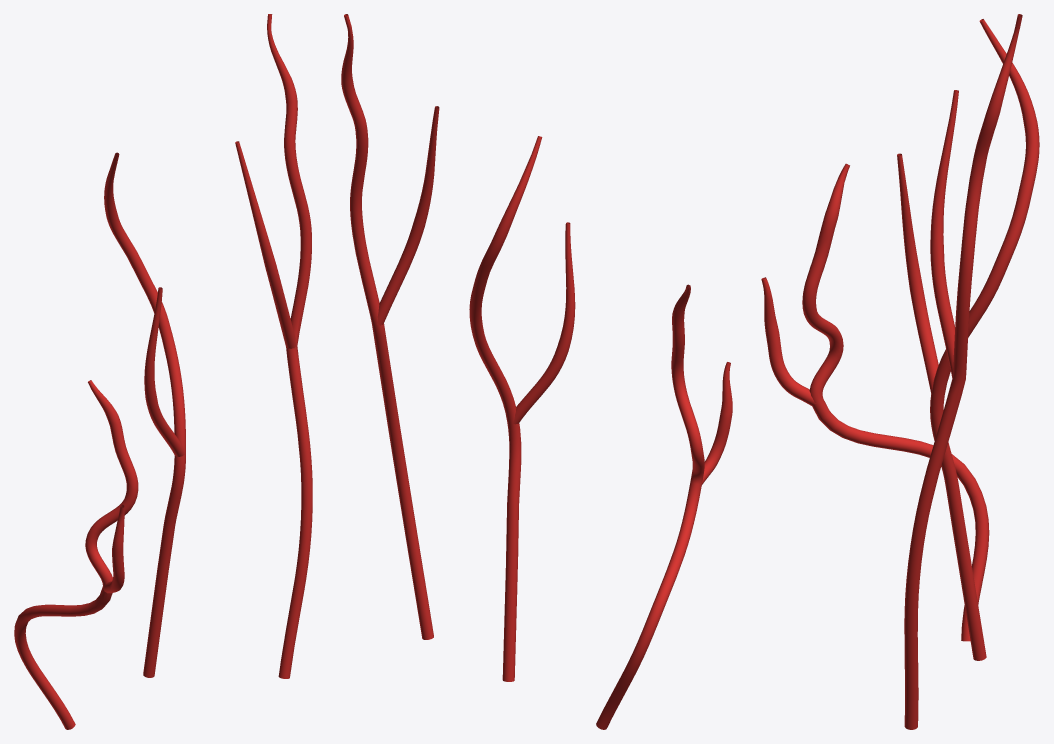
The model's file is circulatorio-proximal-lateral-striate-branches-l.glb.
3 renders of one model, left to right at view 1: azimuth 30°, elevation 25°; view 2: azimuth 150°, elevation 25°; view 3: azimuth 270°, elevation 25°, orthographic. The views are drawn at different scales.
Parts seen in each view (by area): view 1: Proximal lateral striate branches.l; view 2: Proximal lateral striate branches.l; view 3: Proximal lateral striate branches.l.
Boxes of the visible parts, left/top/right/bottom form: Proximal lateral striate branches.l: left=14, top=14, right=312, bottom=729; Proximal lateral striate branches.l: left=341, top=14, right=732, bottom=729; Proximal lateral striate branches.l: left=761, top=14, right=1039, bottom=729.
Size of the model in its own units: 0.00586 by 0.0122 by 0.00407.
